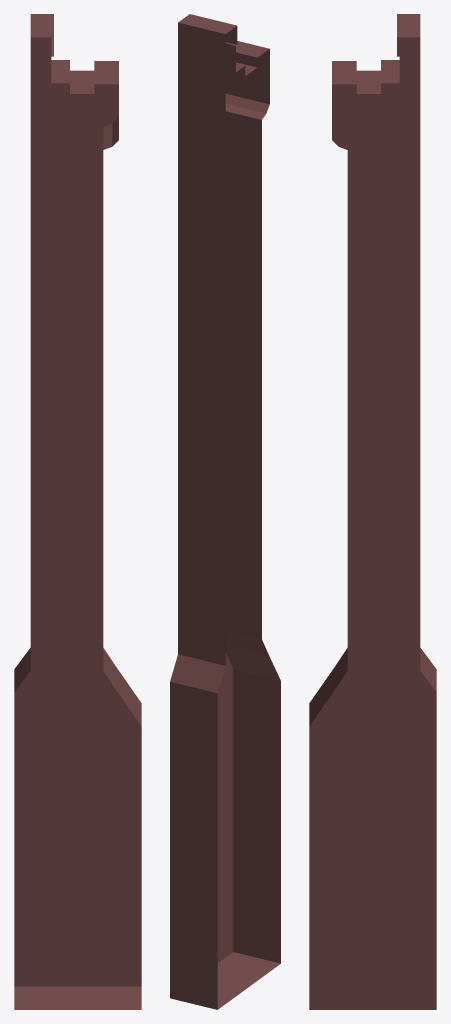
File: Columna_Pared_02.fbx
The picture shows the model from 3 angles, left to right: view 1: azimuth 90°, elevation 25°; view 2: azimuth 150°, elevation 25°; view 3: azimuth 270°, elevation 25°; orthographic projection.
Parts seen in each view (by area): view 1: pasted__pPlane2; view 2: pasted__pPlane2; view 3: pasted__pPlane2.
Part boxes in pixels (x1,y1,x2,y2): pasted__pPlane2: (14, 14, 141, 1009); pasted__pPlane2: (170, 14, 280, 1009); pasted__pPlane2: (309, 14, 436, 1009).
Size of the model in its own units: 1.7 by 33.11 by 3.92.
